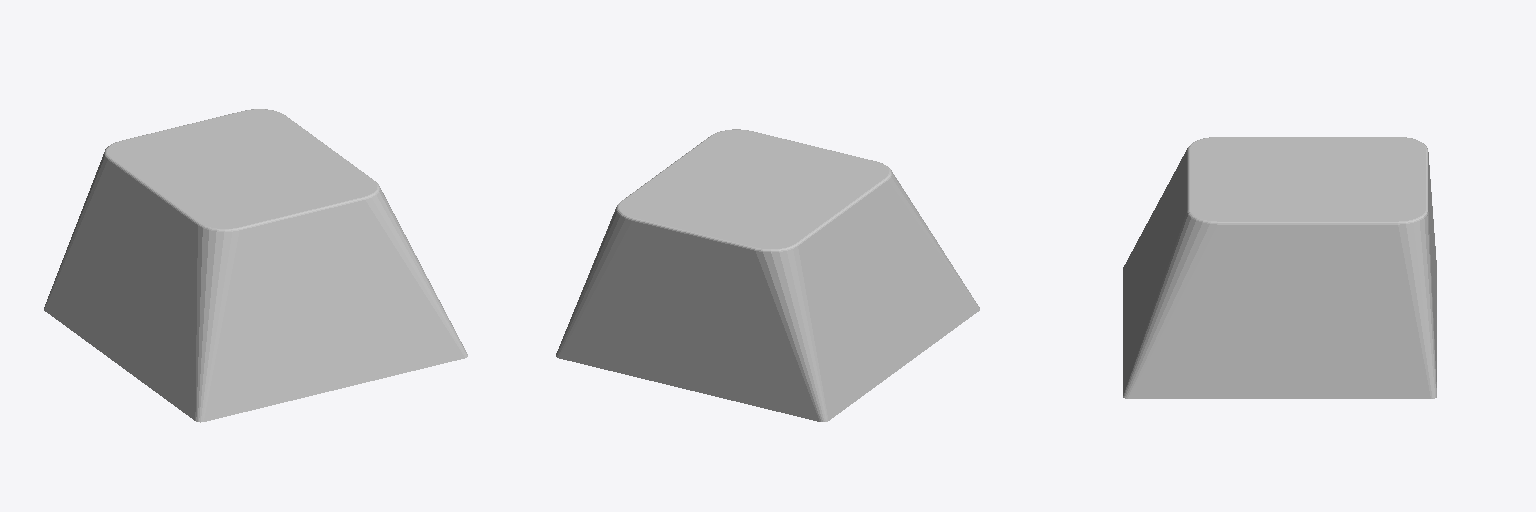
Rendered from R1Cherry1U.obj.
3 renders of one model, left to right at view 1: azimuth 30°, elevation 25°; view 2: azimuth 150°, elevation 25°; view 3: azimuth 270°, elevation 25°, orthographic.
Visible parts, largest first — view 1: R1_1U_Copy.001_Plane.002; view 2: R1_1U_Copy.001_Plane.002; view 3: R1_1U_Copy.001_Plane.002.
Part boxes in pixels (x1,y1,x2,y2): R1_1U_Copy.001_Plane.002: (44, 109, 467, 422); R1_1U_Copy.001_Plane.002: (556, 129, 979, 421); R1_1U_Copy.001_Plane.002: (1123, 137, 1436, 398).
Bounding box in the file's own units: 5.46 × 2.94 × 5.46.